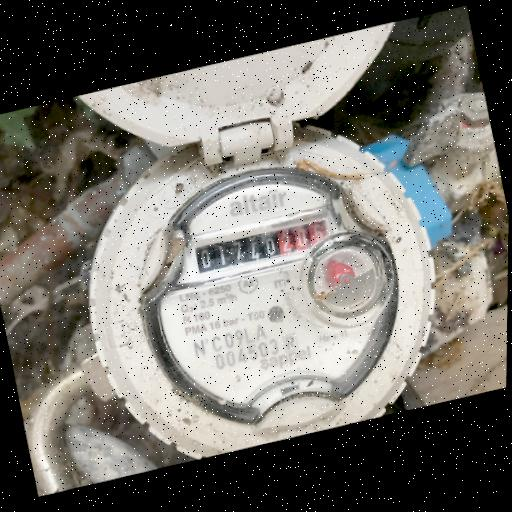0: (259, 229, 282, 259), (194, 244, 217, 273), (292, 221, 314, 251)
1: (211, 240, 233, 269)
2: (276, 225, 299, 255)
4: (244, 233, 266, 263)
5: (309, 219, 328, 245)
7: (226, 236, 249, 265)
border_water_meter_number: (188, 208, 337, 282)
